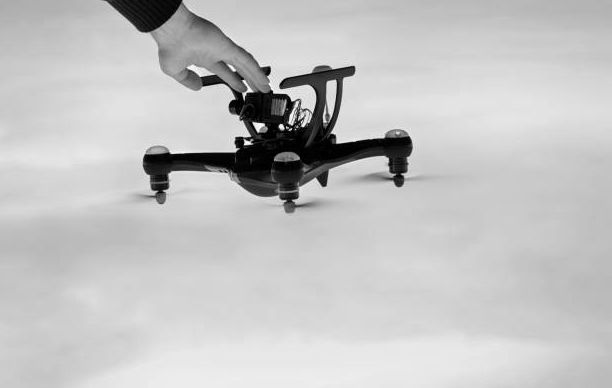Drone: (120, 99, 446, 225)
